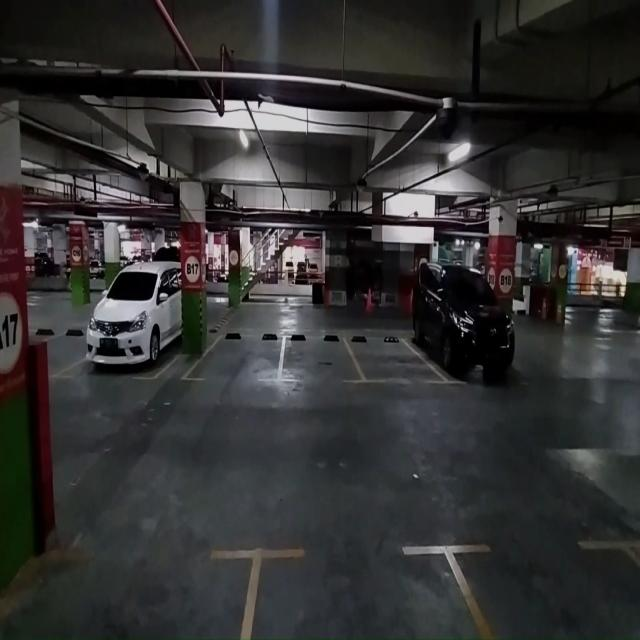empty: (189, 328, 281, 384), (280, 328, 358, 386), (358, 325, 428, 387)
occupied: (84, 272, 181, 382), (414, 291, 522, 384)
